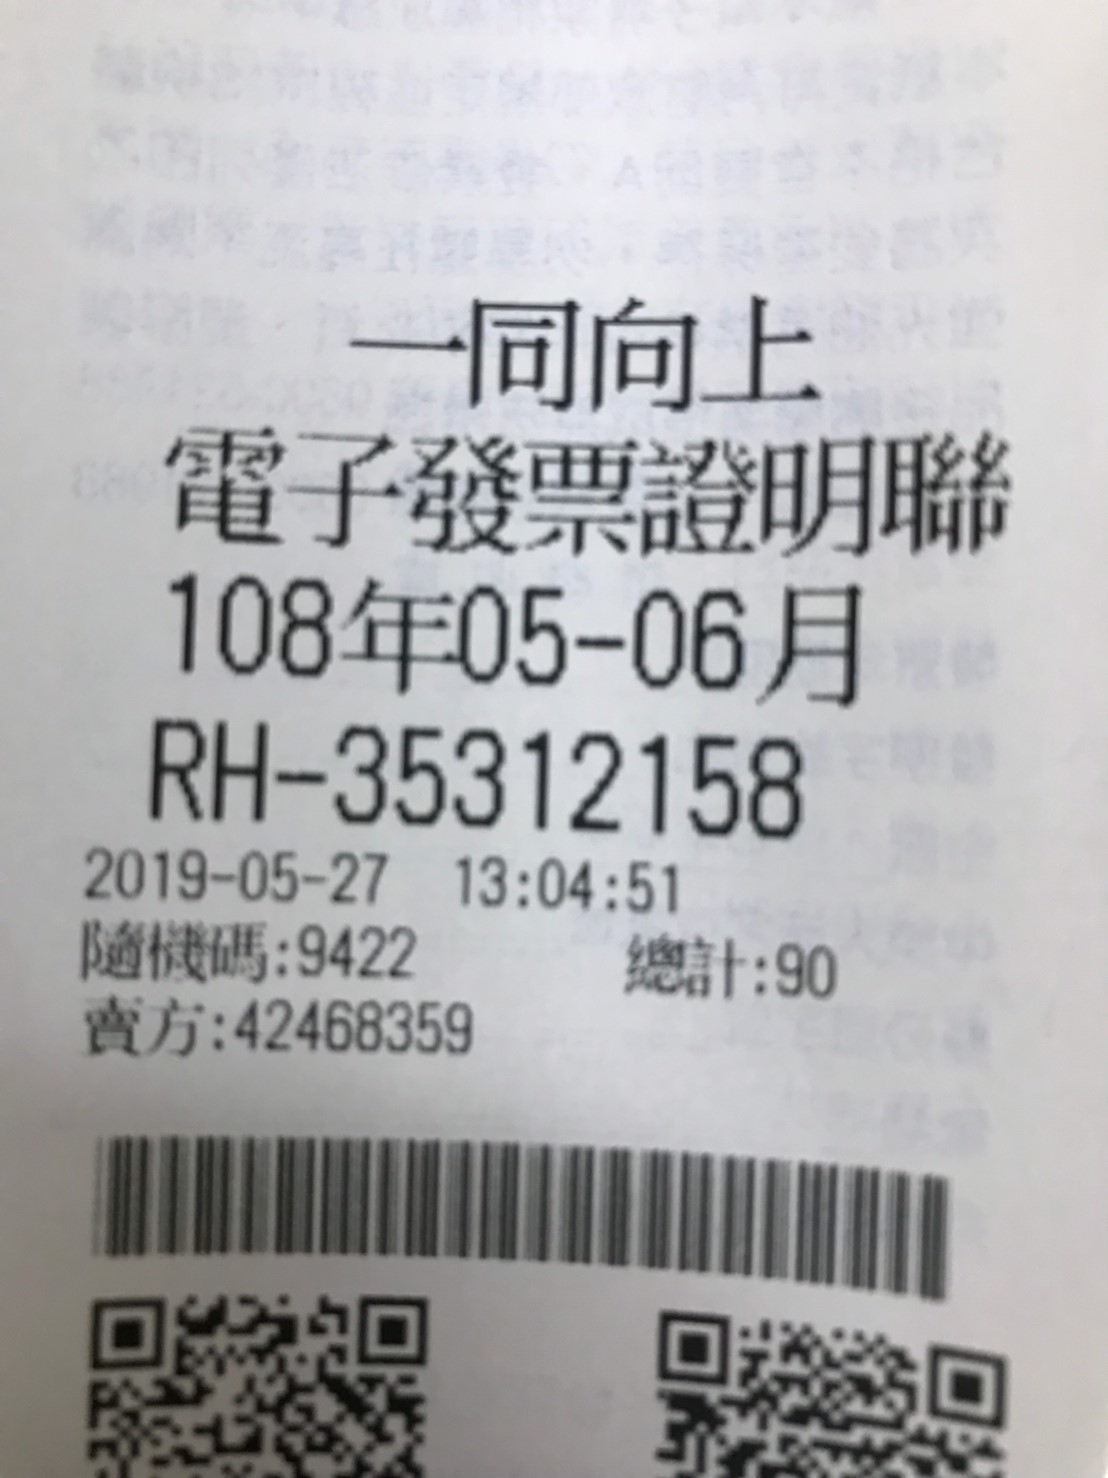Date_New: (166, 567, 864, 713)
Number_New: (335, 719, 807, 846)
